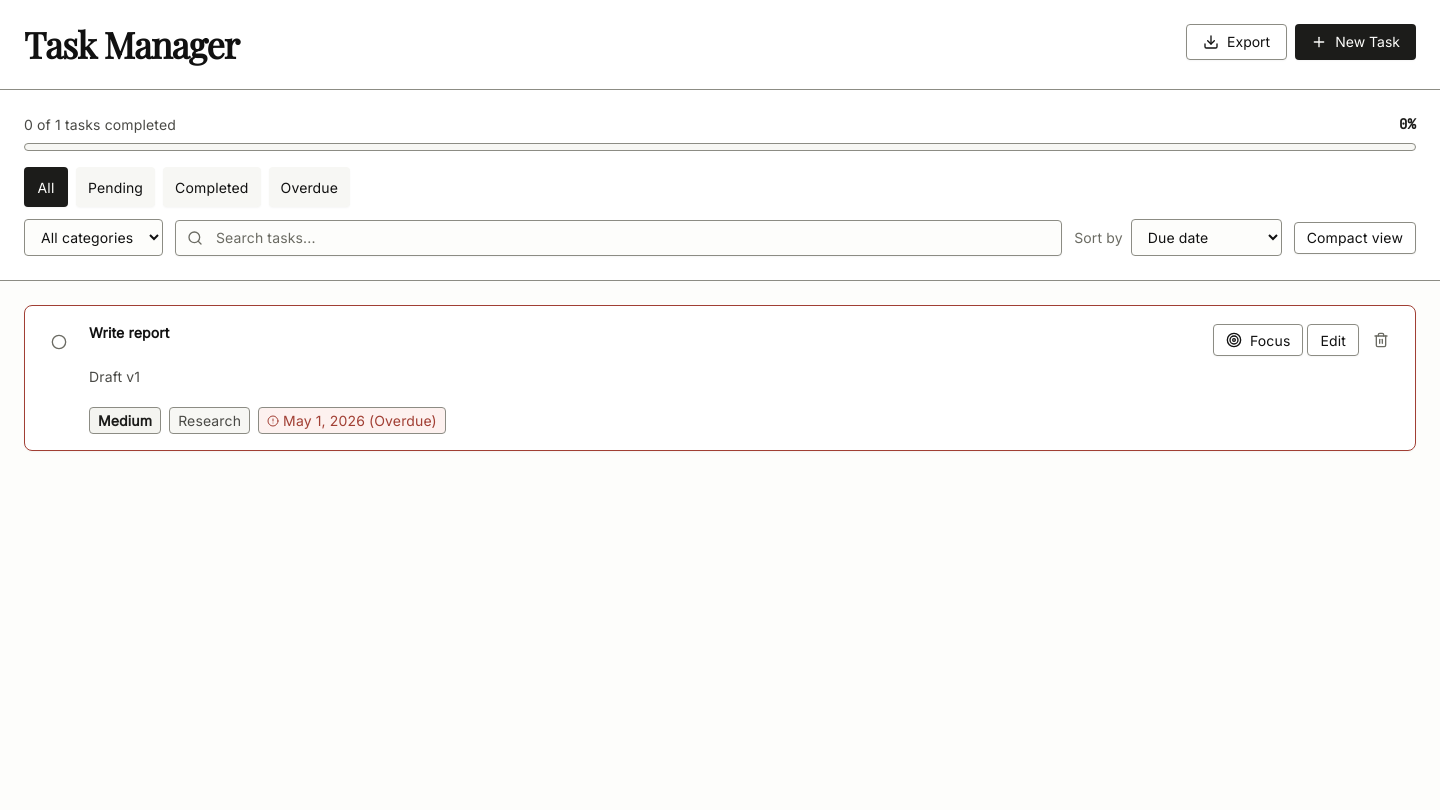
TaskManager edit-clear › rejects a non-UUID project id with a field error and no save
Click the button "Edit".
click(1333, 340)  # box [1308,324,1359,356]
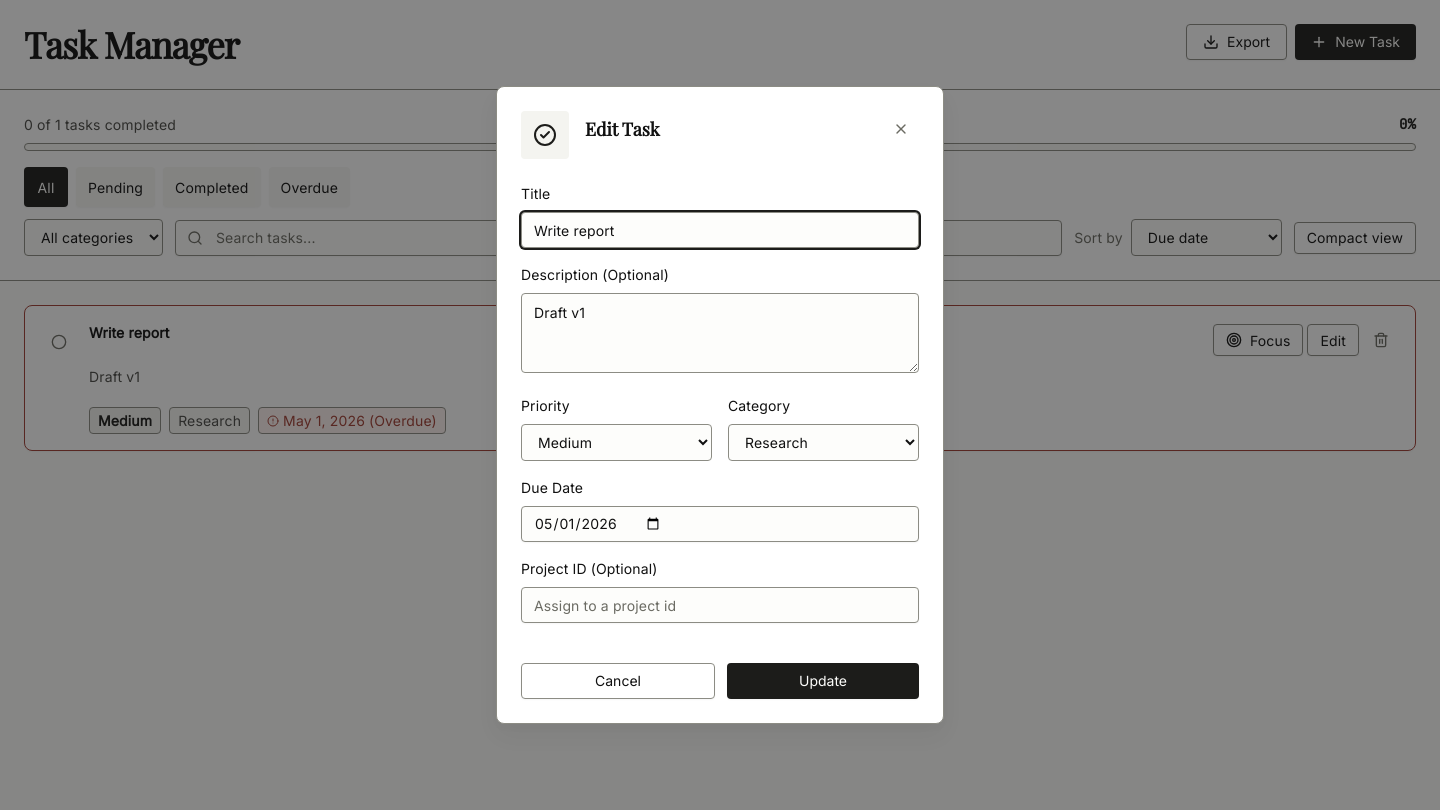
Type "proj-1" into the field labelled "Project ID (Optional)".
click(720, 605); type("proj-1")  # box [521,587,919,623]
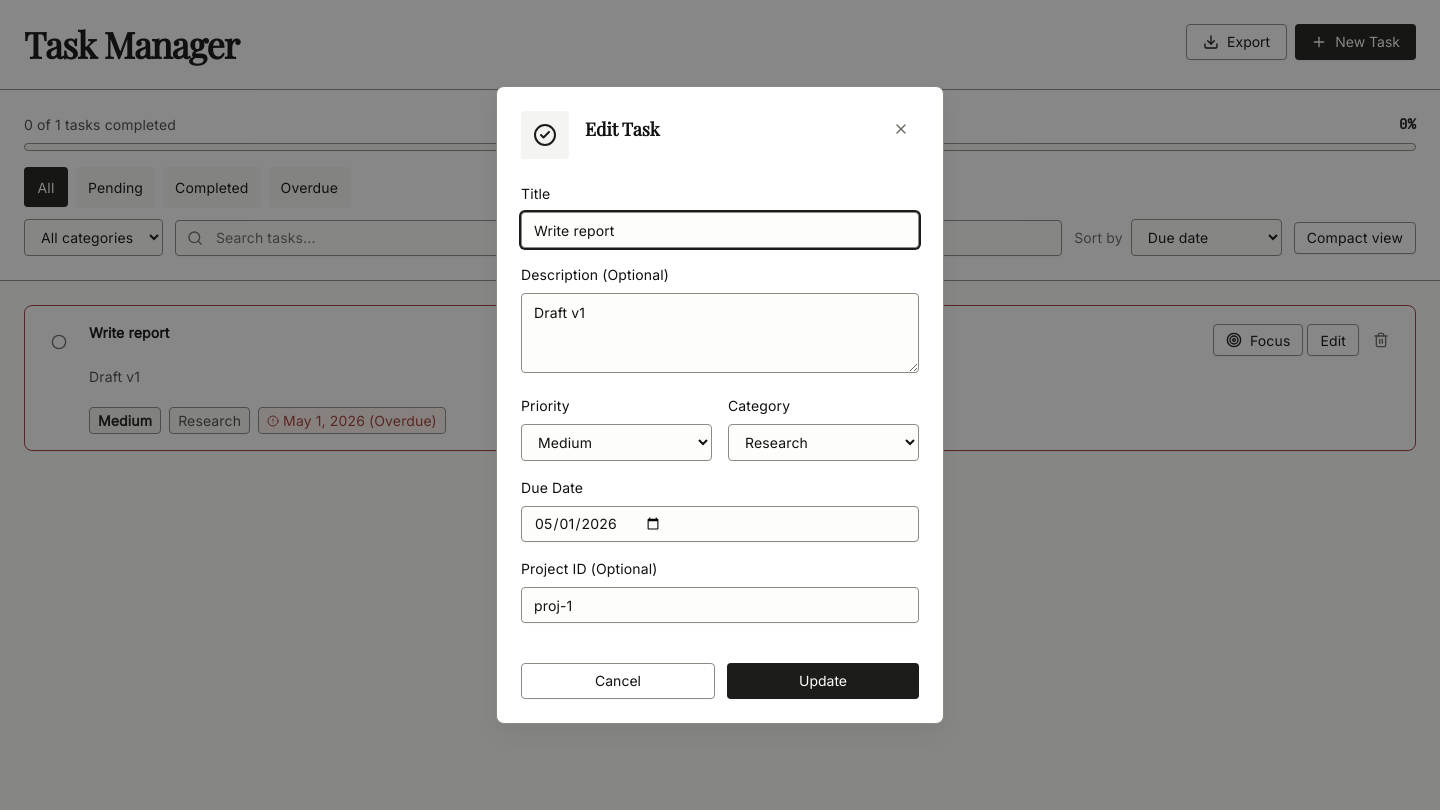
Submit the form, box [497,87,943,723]
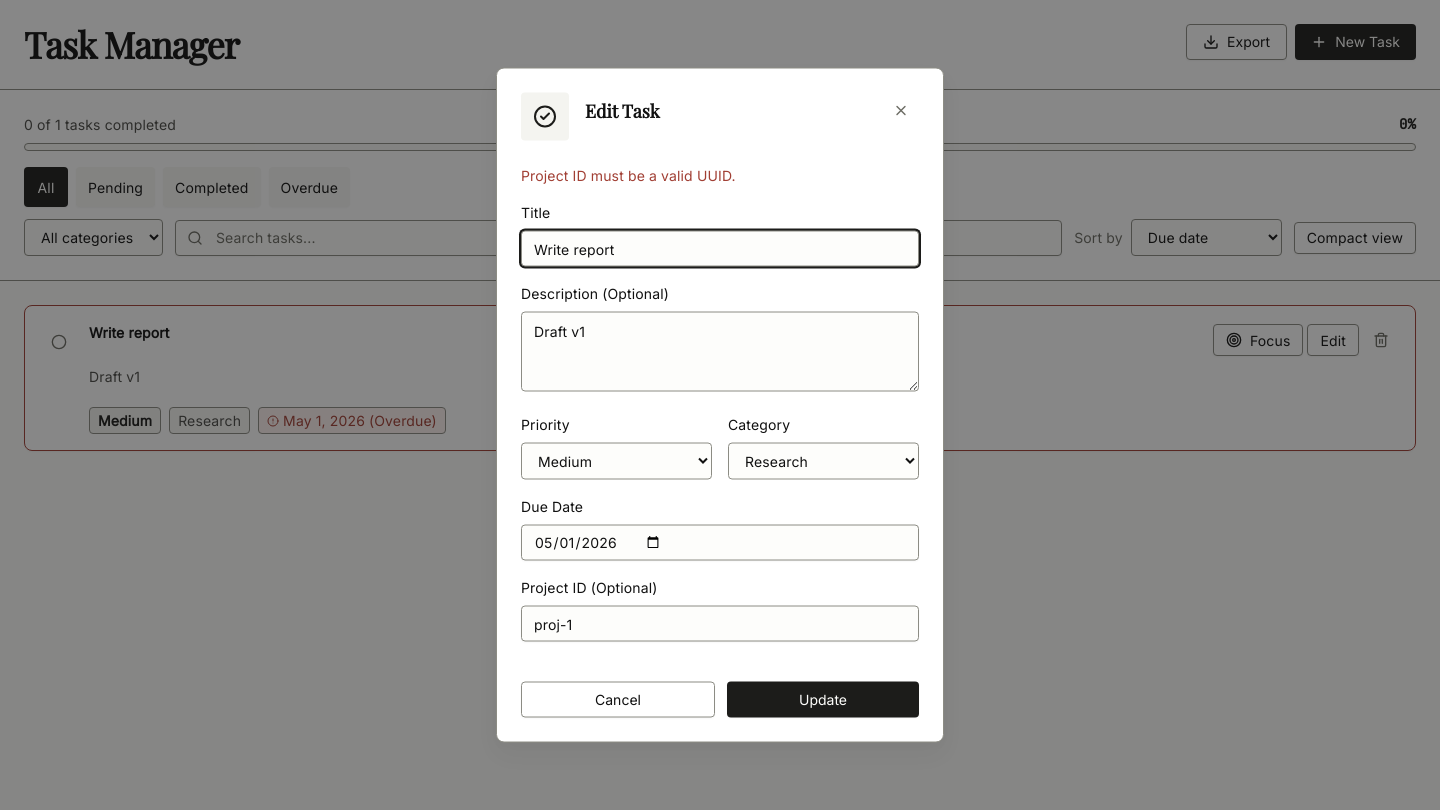
Expected: the text "Project ID must be a valid UUID." is shown, [521,166,736,184]
